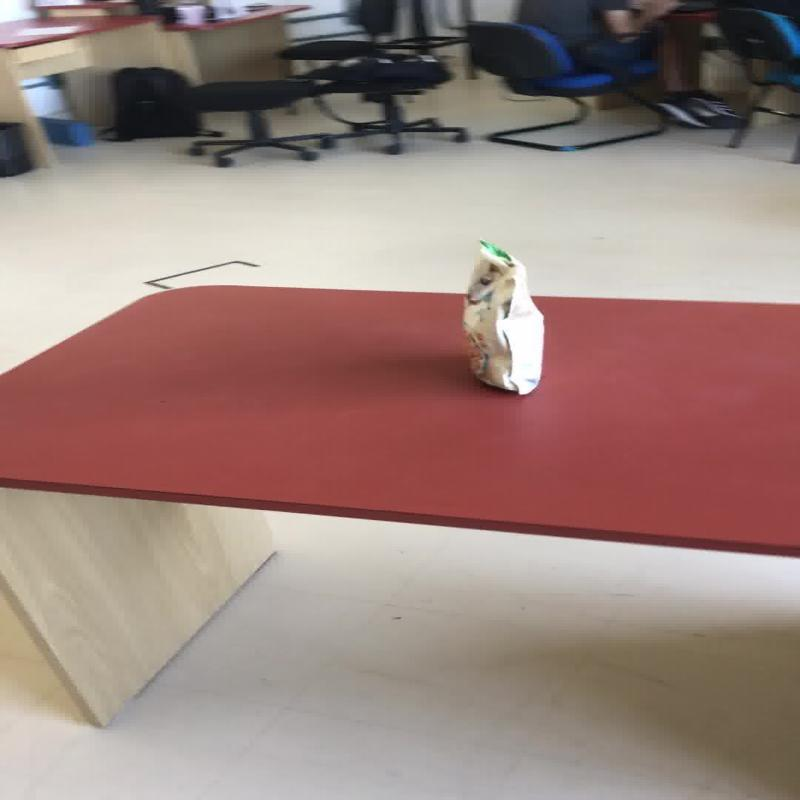corn flakes: (459, 238, 544, 394)
